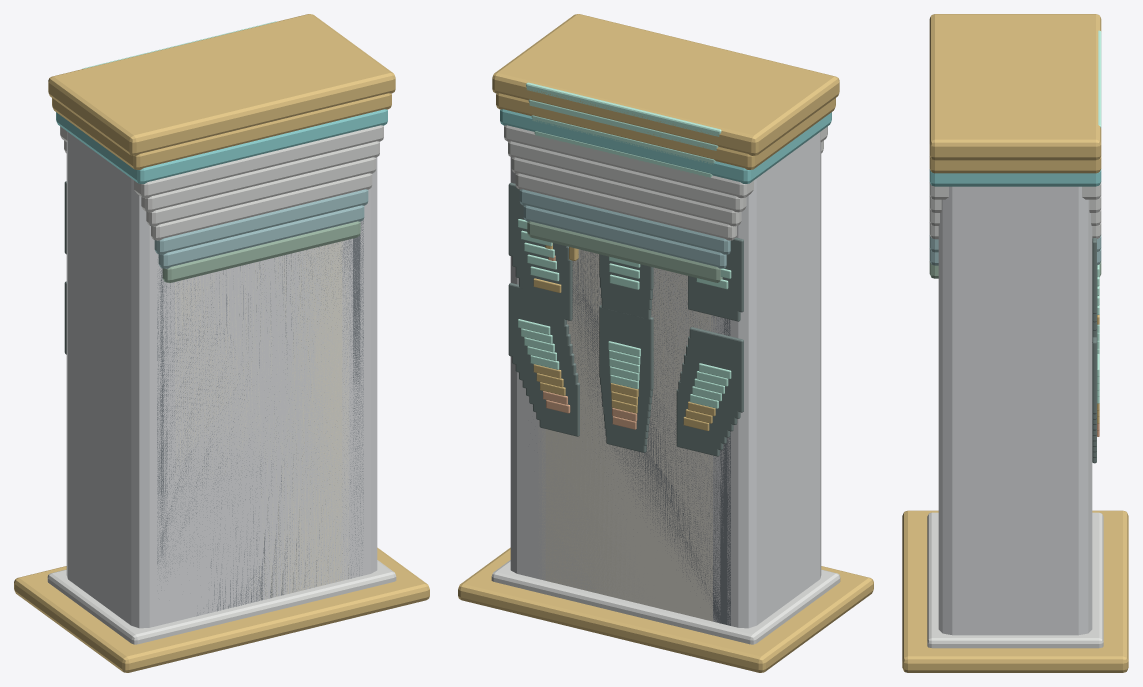
Rendered from Gear13.fbx.
The picture shows the model from 3 angles, left to right: view 1: azimuth 30°, elevation 25°; view 2: azimuth 150°, elevation 25°; view 3: azimuth 270°, elevation 25°; orthographic projection.
Visible parts, largest first — view 1: Gear13_V10_Platinum, Gear13_V10_Gold, Gear13_V5_Platinum, Gear13_V9_Platinum, Gear13_V2_Ivory, Gear13_V9_Gold, Gear13_V3_Linen, Gear13_V8_Aqua, Gear13_V7_Graphite, Gear13_V6_Chrome, Gear13_V4_Linen, Gear13_V5_Chrome (+11 smaller); view 2: Gear13_V10_Platinum, Gear13_V10_Gold, Gear13_V3_Linen, Gear13_V2_Ivory, Gear13_V9_Gold, Gear13_V10_Ink, Gear13_V7_Graphite, Gear13_V9_Ink, Gear13_V6_Chrome, Gear13_V4_Chrome, Gear13_V7_Ink, Gear13_V5_Chrome (+27 smaller); view 3: Gear13_V10_Platinum, Gear13_V10_Gold, Gear13_V9_Gold, Gear13_V10_Chrome, Gear13_V8_Aqua, Gear13_V8_Chrome, Gear13_V5_Chrome, Gear13_V9_Chrome, Gear13_V10_Ink, Gear13_V7_Chrome, Gear13_V10_Glow, Gear13_V6_Chrome.
Boxes of the visible parts, left/top/right/bottom form: Gear13_V10_Platinum: left=66, top=132, right=377, bottom=628; Gear13_V10_Gold: left=14, top=14, right=429, bottom=672; Gear13_V5_Platinum: left=167, top=238, right=352, bottom=606; Gear13_V9_Platinum: left=153, top=207, right=367, bottom=626; Gear13_V2_Ivory: left=185, top=241, right=342, bottom=599; Gear13_V9_Gold: left=22, top=93, right=423, bottom=667; Gear13_V3_Linen: left=175, top=262, right=310, bottom=550; Gear13_V8_Aqua: left=56, top=109, right=387, bottom=183; Gear13_V7_Graphite: left=160, top=234, right=360, bottom=561; Gear13_V6_Chrome: left=64, top=140, right=379, bottom=634; Gear13_V4_Linen: left=178, top=240, right=349, bottom=603; Gear13_V5_Chrome: left=146, top=157, right=376, bottom=632; Gear13_V10_Platinum: left=510, top=132, right=821, bottom=628; Gear13_V10_Gold: left=458, top=14, right=873, bottom=672; Gear13_V3_Linen: left=542, top=251, right=712, bottom=621; Gear13_V2_Ivory: left=545, top=249, right=709, bottom=602; Gear13_V9_Gold: left=464, top=93, right=864, bottom=669; Gear13_V10_Ink: left=508, top=182, right=743, bottom=412; Gear13_V7_Graphite: left=568, top=250, right=727, bottom=624; Gear13_V9_Ink: left=512, top=199, right=740, bottom=418; Gear13_V6_Chrome: left=508, top=140, right=823, bottom=640; Gear13_V4_Chrome: left=515, top=173, right=736, bottom=628; Gear13_V7_Ink: left=519, top=228, right=733, bottom=431; Gear13_V5_Chrome: left=511, top=157, right=741, bottom=633; Gear13_V10_Platinum: left=938, top=186, right=1092, bottom=635; Gear13_V10_Gold: left=902, top=14, right=1128, bottom=672; Gear13_V9_Gold: left=902, top=156, right=1128, bottom=658; Gear13_V10_Chrome: left=927, top=512, right=1103, bottom=648; Gear13_V8_Aqua: left=929, top=169, right=1101, bottom=186; Gear13_V8_Chrome: left=927, top=516, right=1103, bottom=637; Gear13_V5_Chrome: left=927, top=208, right=1102, bottom=632; Gear13_V9_Chrome: left=927, top=514, right=1103, bottom=639; Gear13_V10_Ink: left=1092, top=238, right=1096, bottom=414; Gear13_V7_Chrome: left=927, top=182, right=1102, bottom=635; Gear13_V10_Glow: left=1097, top=30, right=1101, bottom=376; Gear13_V6_Chrome: left=927, top=195, right=1102, bottom=634.
Size of the model in its own units: 78.56 by 128 by 50.
